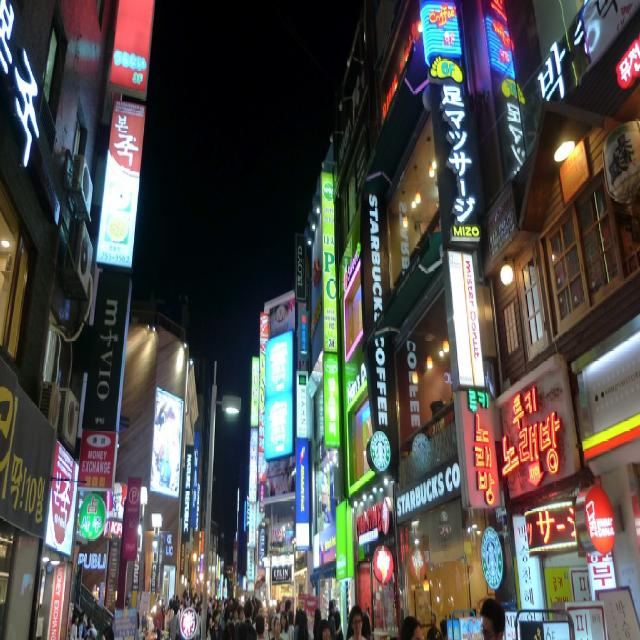body: (480, 596, 505, 640), (169, 587, 203, 613), (348, 603, 367, 640), (397, 612, 422, 640), (293, 606, 312, 640), (327, 599, 342, 640), (243, 601, 258, 640), (152, 598, 164, 639), (224, 593, 234, 640), (312, 607, 326, 639), (313, 618, 333, 640), (426, 611, 441, 640), (252, 597, 264, 632), (331, 610, 345, 639), (279, 610, 292, 640), (210, 609, 222, 640), (266, 598, 275, 638), (360, 612, 372, 640), (270, 615, 284, 639), (204, 613, 216, 640), (164, 607, 174, 639), (78, 611, 89, 640), (235, 587, 256, 602), (69, 611, 80, 639), (207, 593, 224, 611), (287, 609, 297, 639), (255, 614, 265, 640), (101, 623, 115, 640), (140, 609, 148, 635), (91, 582, 100, 600), (284, 598, 292, 616), (85, 617, 94, 633), (274, 602, 282, 620), (237, 604, 244, 624), (161, 596, 165, 631), (124, 594, 129, 609), (156, 592, 160, 600)
